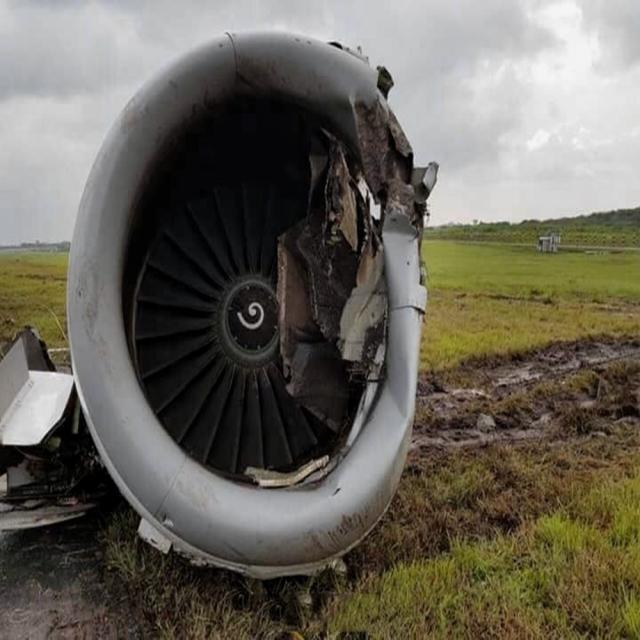dent: (379, 323, 419, 499), (379, 210, 425, 264)
